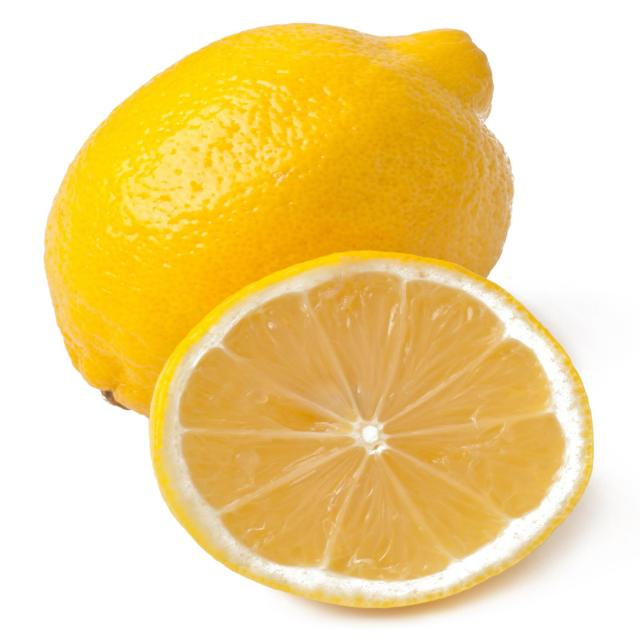lemon: (35, 14, 524, 424), (140, 244, 601, 617)
